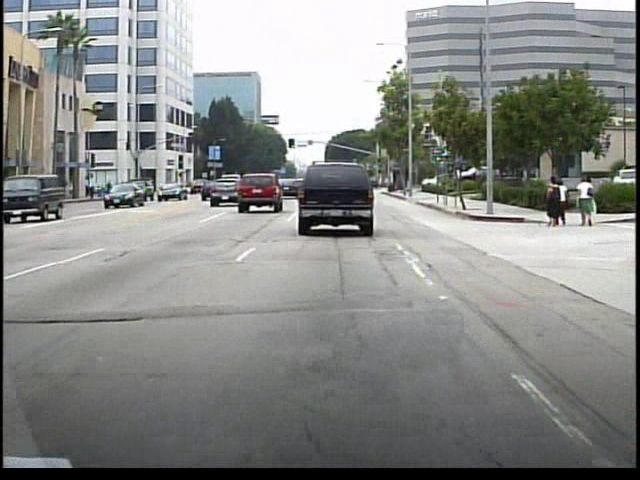person: (576, 174, 596, 229), (545, 176, 561, 230), (559, 181, 570, 228)
